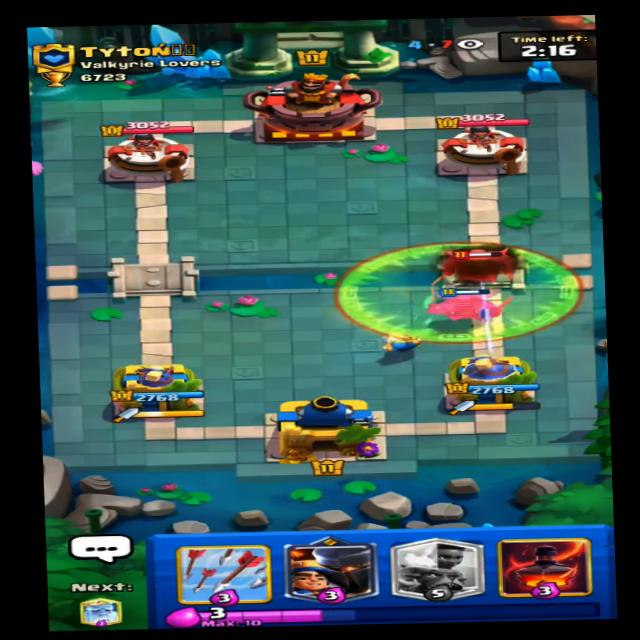Goblincurse: (334, 243, 585, 346)
Pekka: (432, 241, 519, 285)
